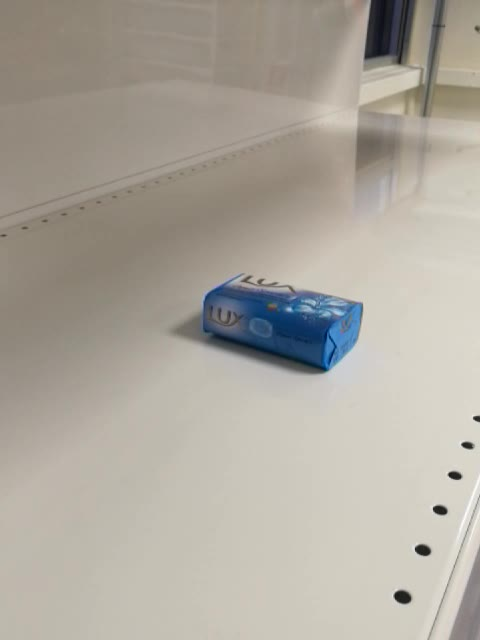soap: (201, 270, 366, 374)
